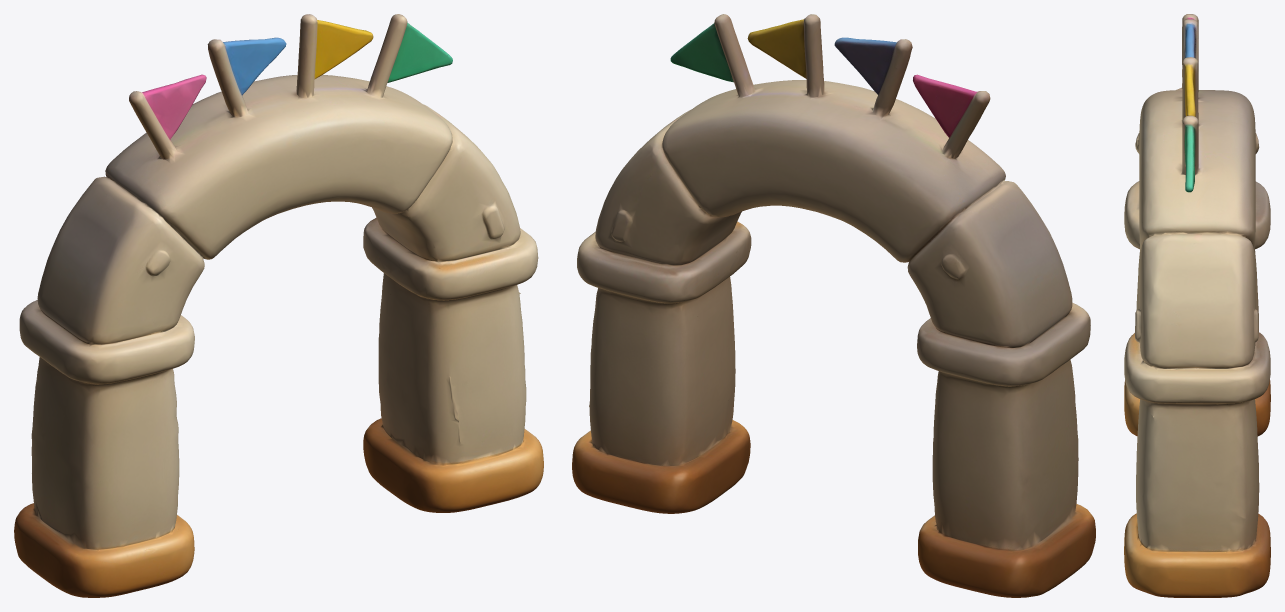
File: games-arch.glb
3 views of the same model, side by side, from view 1: azimuth 30°, elevation 25°; view 2: azimuth 150°, elevation 25°; view 3: azimuth 270°, elevation 25° (orthographic). The views are drawn at different scales.
Visible parts, largest first — view 1: tripo_node_06422ea8-2f83-4ea2-8b57-68448f1d8f64; view 2: tripo_node_06422ea8-2f83-4ea2-8b57-68448f1d8f64; view 3: tripo_node_06422ea8-2f83-4ea2-8b57-68448f1d8f64.
Boxes of the visible parts, bbox=[...] form: tripo_node_06422ea8-2f83-4ea2-8b57-68448f1d8f64: bbox=[14, 14, 543, 597]; tripo_node_06422ea8-2f83-4ea2-8b57-68448f1d8f64: bbox=[572, 14, 1095, 597]; tripo_node_06422ea8-2f83-4ea2-8b57-68448f1d8f64: bbox=[1124, 14, 1270, 597].
Size of the model in its own units: 0.9948 by 1 by 0.295.
Materials: 1 (1 with a texture image).
